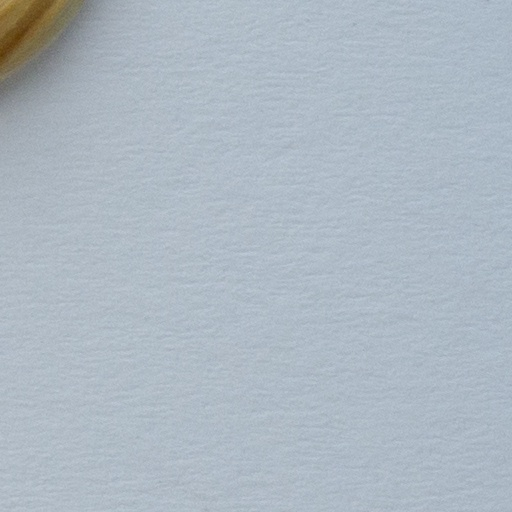Peel-poly: (0, 0, 85, 80)
